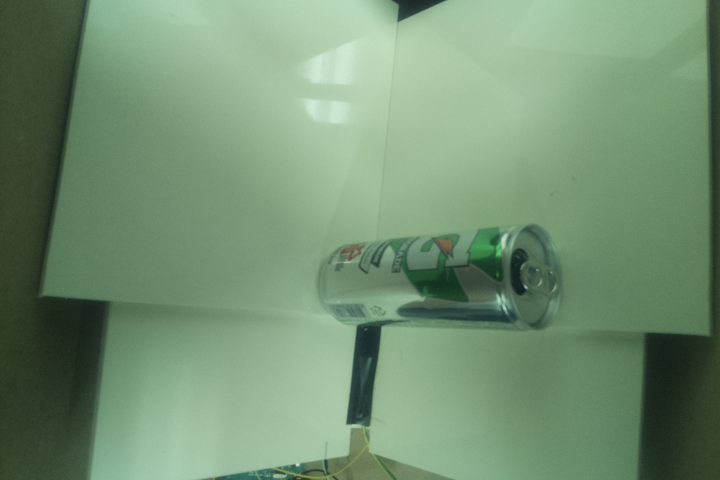can: (317, 220, 567, 334)
